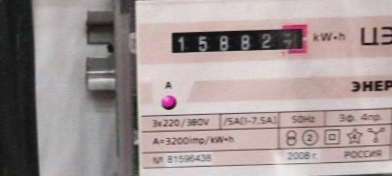1: (176, 36, 186, 52)
2: (260, 32, 271, 49)
5: (197, 35, 208, 51)
7: (282, 38, 292, 50)
8: (218, 35, 229, 52), (239, 34, 250, 51)
screen: (164, 20, 313, 63)
